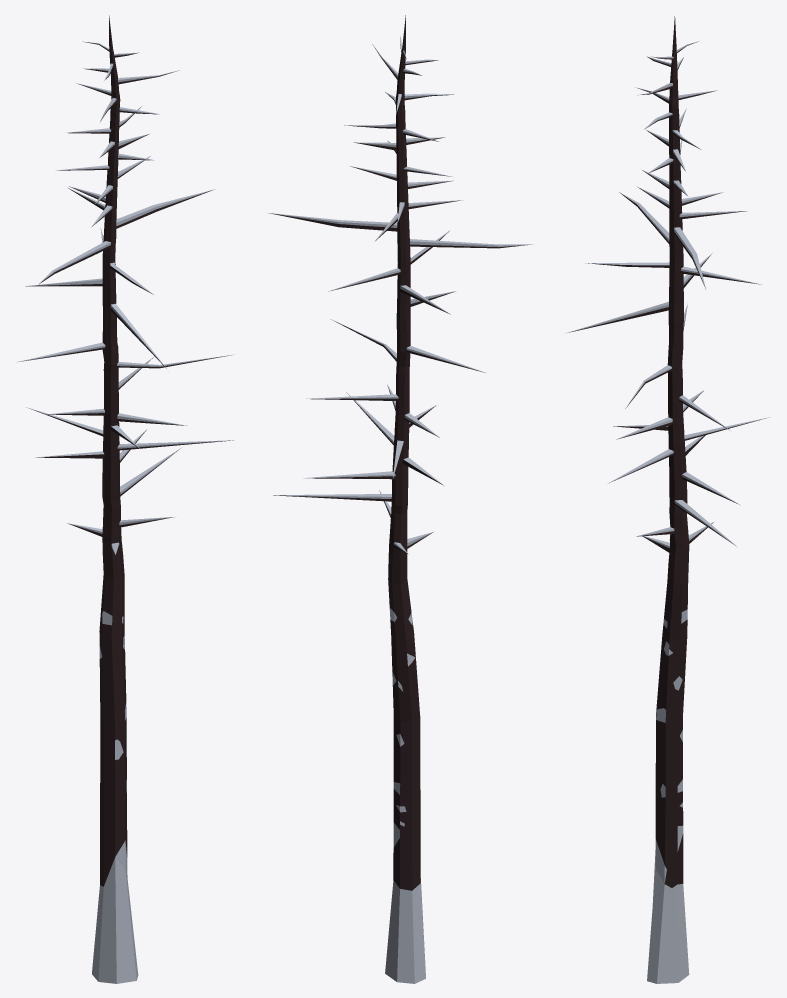
The model's file is dead_tree2.fbx.
The picture shows the model from 3 angles, left to right: view 1: azimuth 30°, elevation 25°; view 2: azimuth 150°, elevation 25°; view 3: azimuth 270°, elevation 25°; orthographic projection.
Parts seen in each view (by area): view 1: needly tree; view 2: needly tree; view 3: needly tree.
Part boxes in pixels (x1,y1,x2,y2): needly tree: (16,15,233,983); needly tree: (268,15,533,983); needly tree: (566,16,770,983).
Size of the model in its own units: 985 by 4059 by 801.
